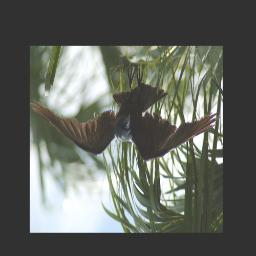Crow: (31, 67, 218, 163)
